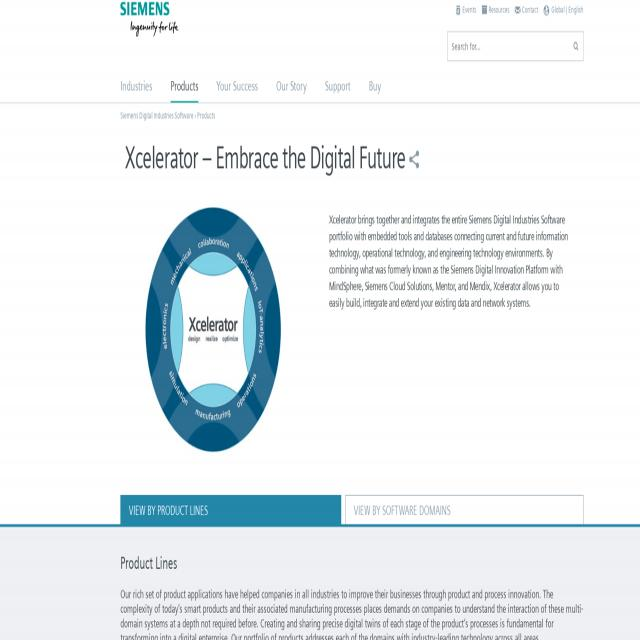button: (120, 202, 306, 453), (346, 496, 583, 526), (120, 496, 342, 525), (120, 0, 182, 37), (216, 67, 258, 100), (120, 67, 152, 100), (276, 67, 306, 100), (170, 67, 198, 100), (325, 67, 351, 100), (364, 67, 385, 100), (572, 41, 580, 55)
field: (448, 33, 582, 62)
